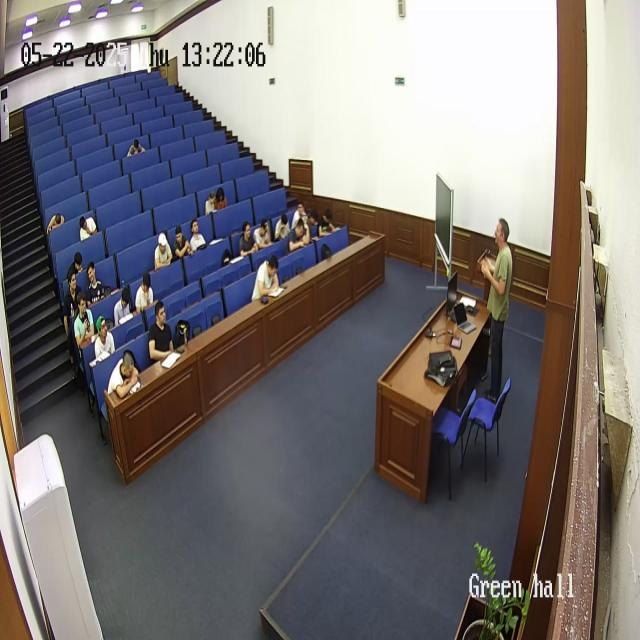person: (480, 219, 514, 401), (147, 300, 177, 362), (106, 348, 140, 399), (73, 292, 96, 358), (64, 268, 84, 340), (251, 255, 281, 301), (93, 316, 115, 362), (85, 259, 105, 305), (135, 271, 154, 318), (114, 287, 134, 326), (288, 218, 310, 252), (238, 220, 258, 257), (153, 232, 172, 268), (172, 224, 190, 259), (189, 220, 207, 253), (78, 213, 98, 242), (253, 218, 271, 250), (290, 198, 308, 230), (317, 207, 335, 237), (274, 210, 290, 241), (48, 212, 66, 236), (126, 137, 146, 156), (214, 186, 227, 209), (205, 190, 217, 214)
